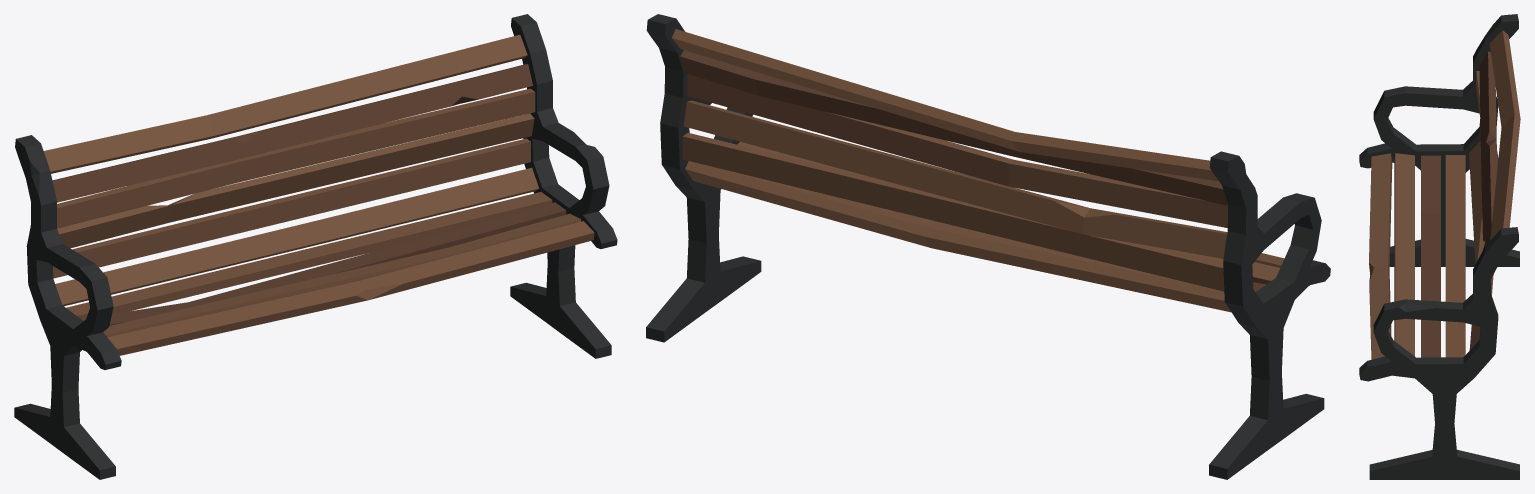
Rendered from Bench_01.fbx.
3 views of the same model, side by side, from view 1: azimuth 30°, elevation 25°; view 2: azimuth 150°, elevation 25°; view 3: azimuth 270°, elevation 25° (orthographic). The views are drawn at different scales.
Parts seen in each view (by area): view 1: Bench_01; view 2: Bench_01; view 3: Bench_01.
Boxes of the visible parts, left/top/right/bottom form: Bench_01: left=14, top=14, right=617, bottom=479; Bench_01: left=646, top=14, right=1330, bottom=479; Bench_01: left=1359, top=14, right=1520, bottom=479.
Size of the model in its own units: 1.86 by 0.9721 by 0.5773.
